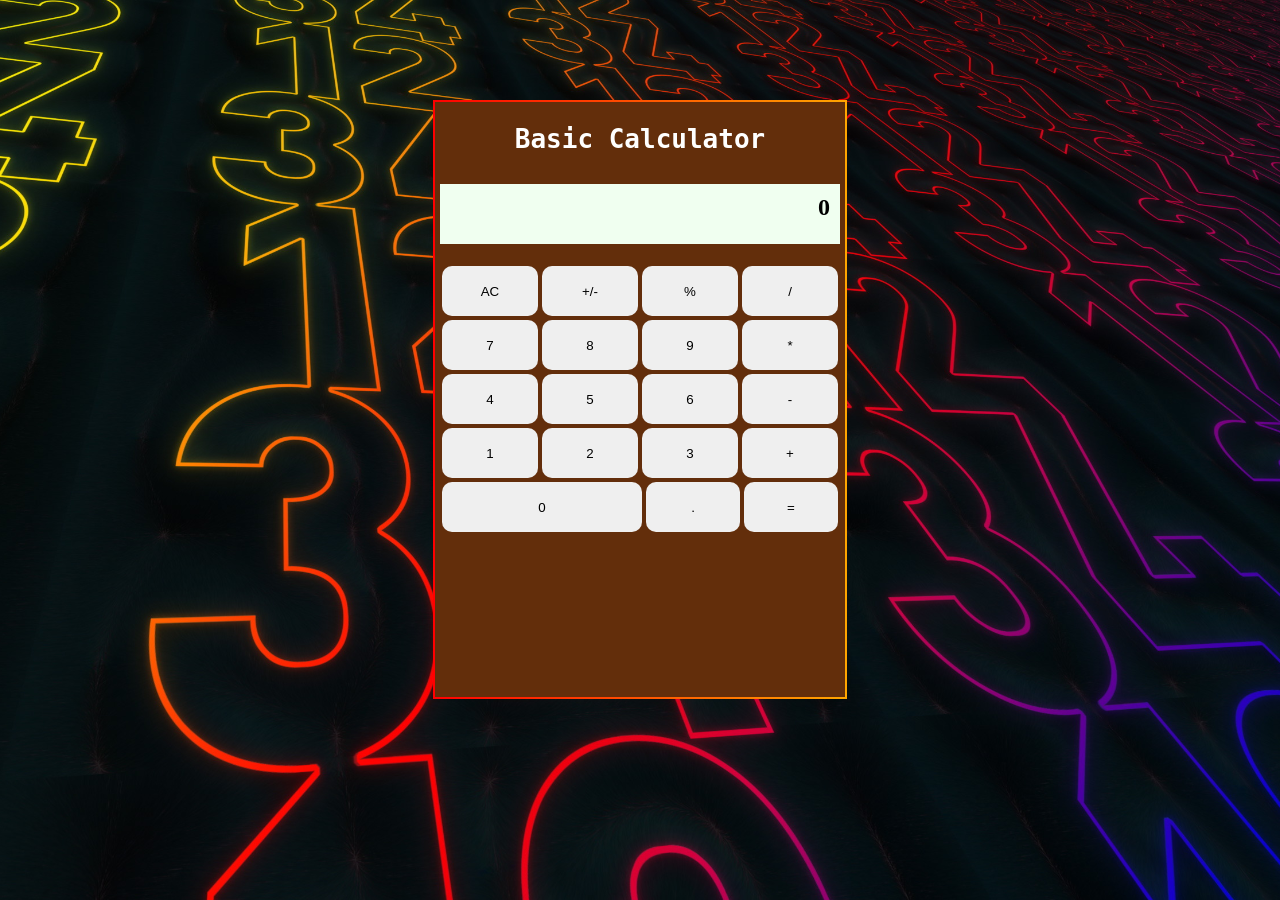
Test case: Calculator methods › it test add numbers
Click the button "6". click: (690, 399)
box: [642,374,738,424]
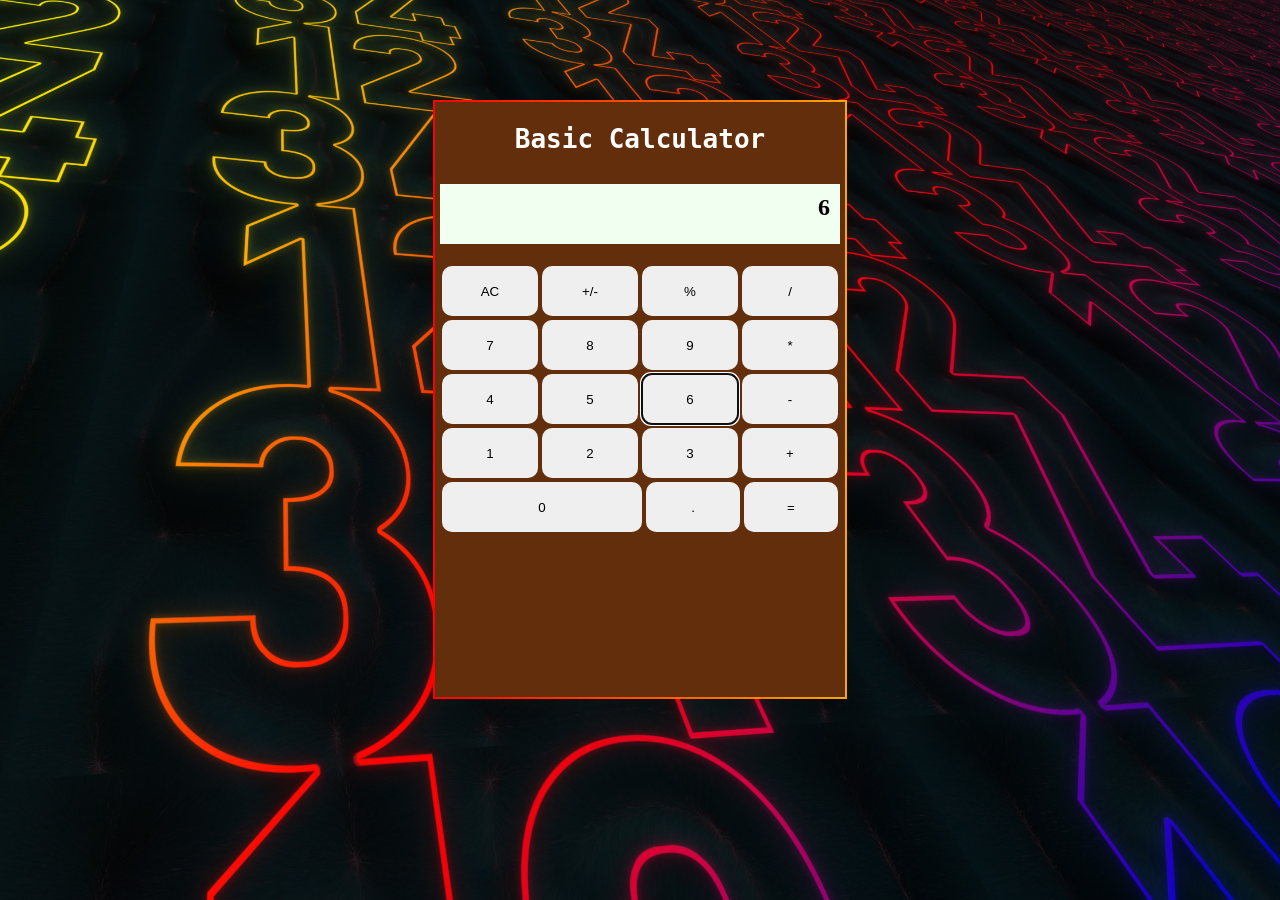
Click the button "+". click: (790, 453)
box: [742,428,838,478]
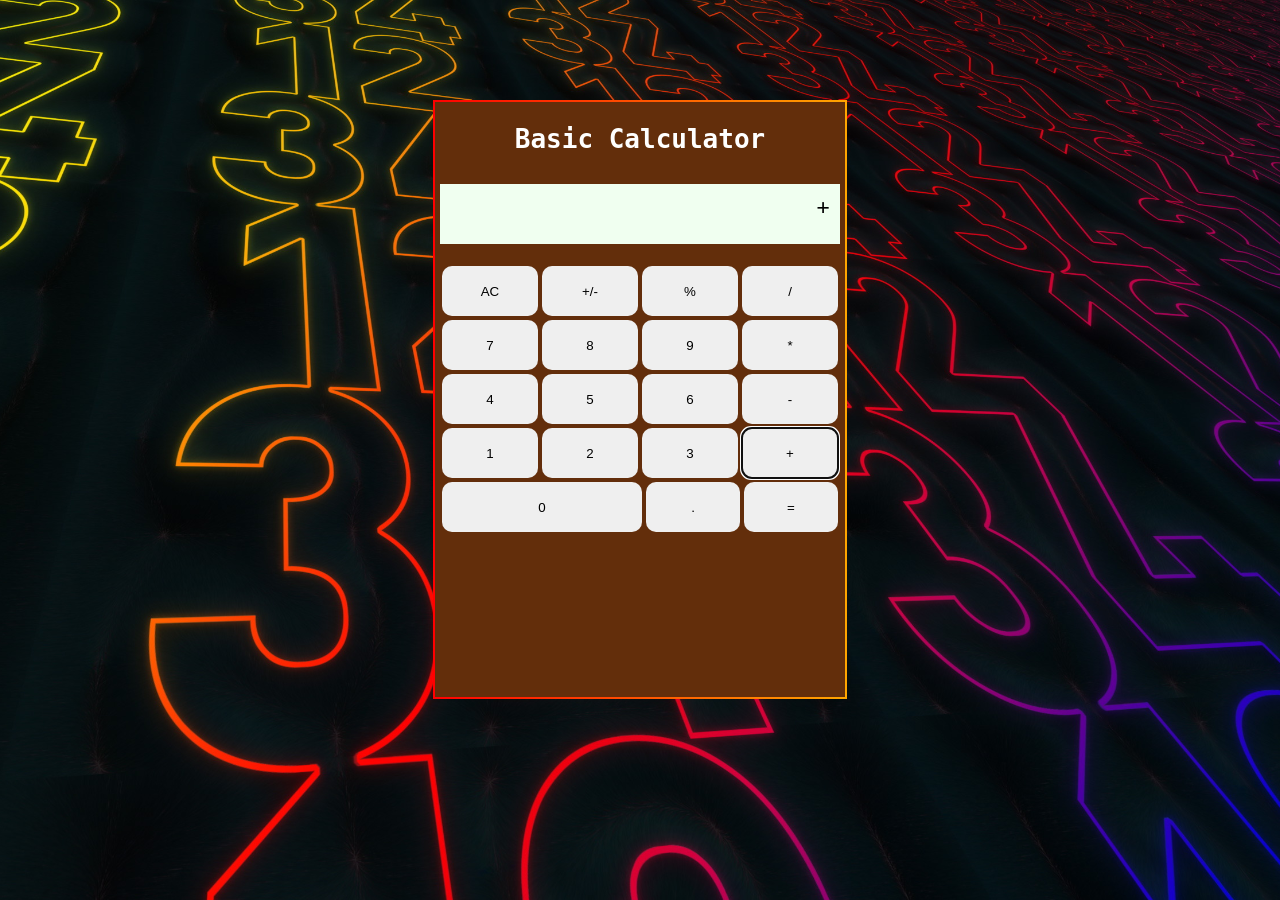
Click the button "6". click: (690, 399)
box: [642,374,738,424]
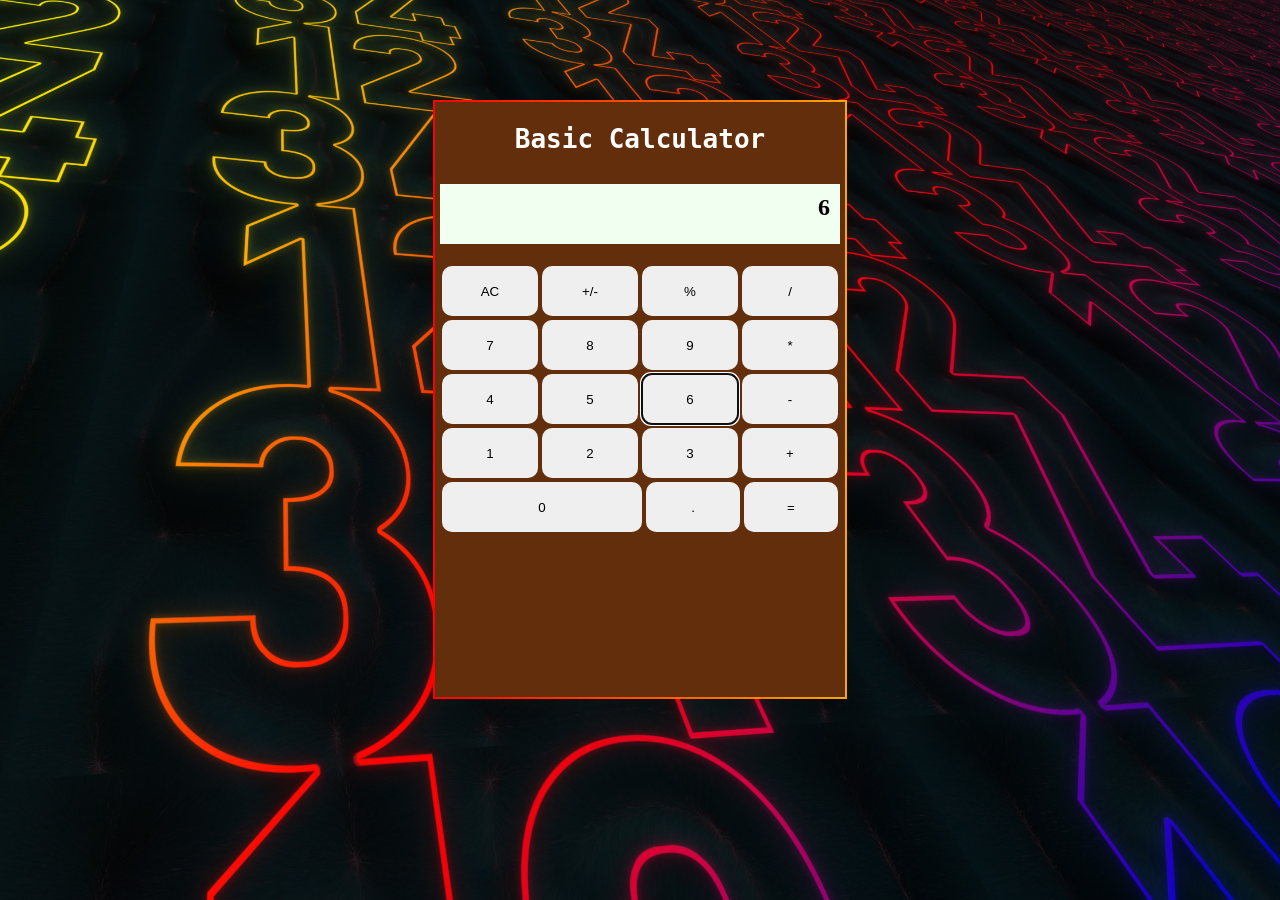
Click the button "=". click: (791, 507)
box: [744,482,838,532]
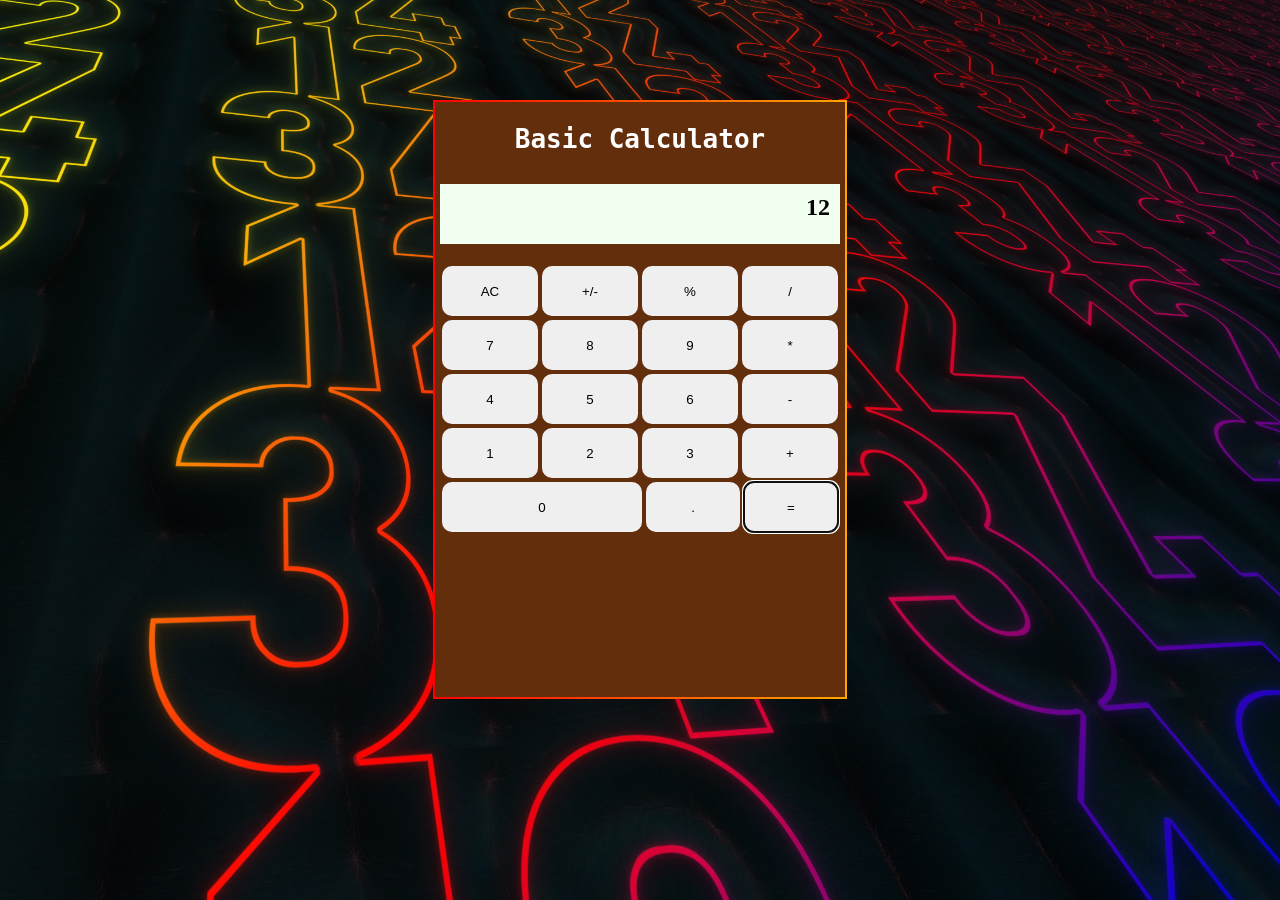
Result: the heading "12" is shown at [440,184,840,244]
